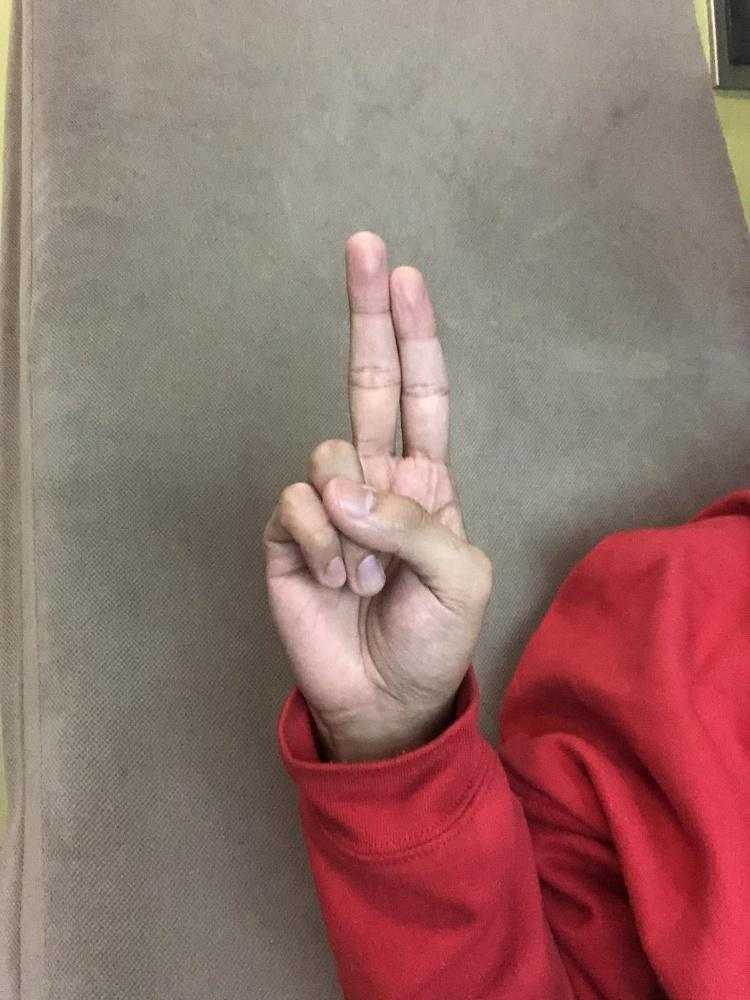u: (259, 225, 497, 733)
